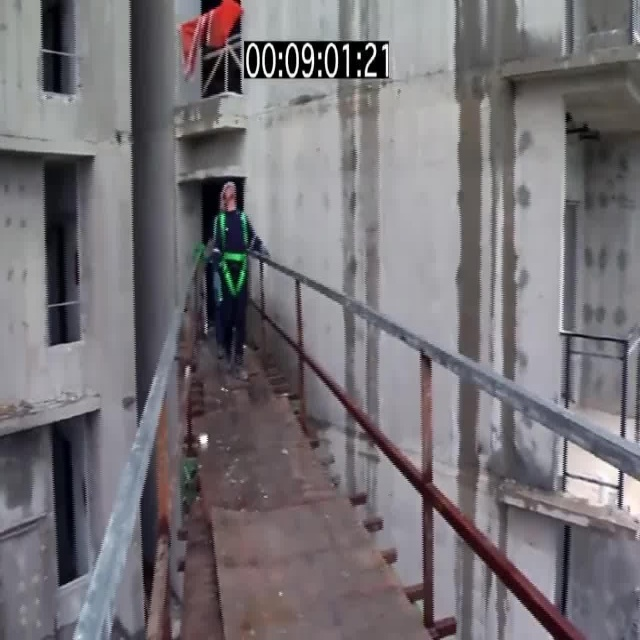Arnes_seguridad: (221, 210, 250, 296)
